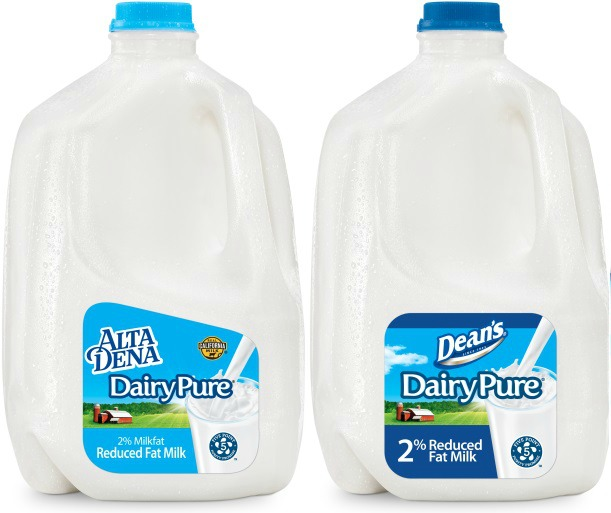milk: (315, 2, 611, 499), (8, 2, 304, 497)
